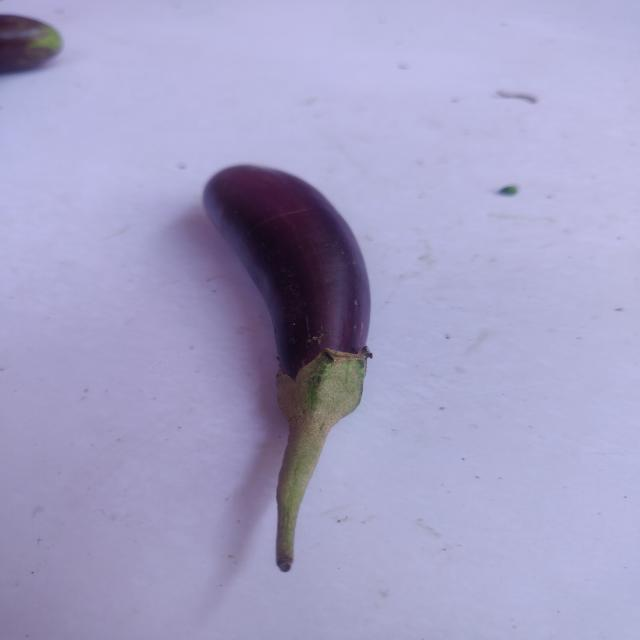Brinjal: (176, 153, 392, 580)
